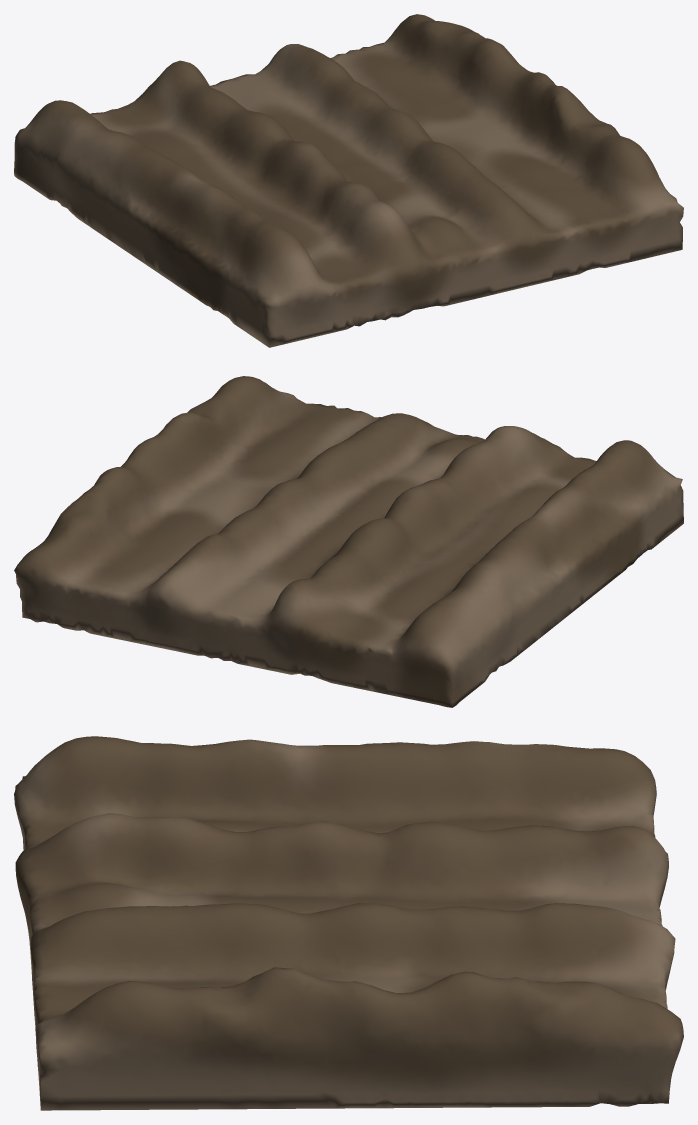
Rendered from plot.glb.
3 renders of one model, top to bottom at view 1: azimuth 30°, elevation 25°; view 2: azimuth 150°, elevation 25°; view 3: azimuth 270°, elevation 25°, orthographic. The views are drawn at different scales.
Visible parts, largest first — view 1: Square; view 2: Square; view 3: Square.
Part boxes in pixels (left/top/right/bottom): Square: left=14, top=14, right=683, bottom=347; Square: left=14, top=376, right=683, bottom=707; Square: left=14, top=736, right=683, bottom=1110.
Size of the model in its own units: 2.24 by 0.5045 by 2.31.
